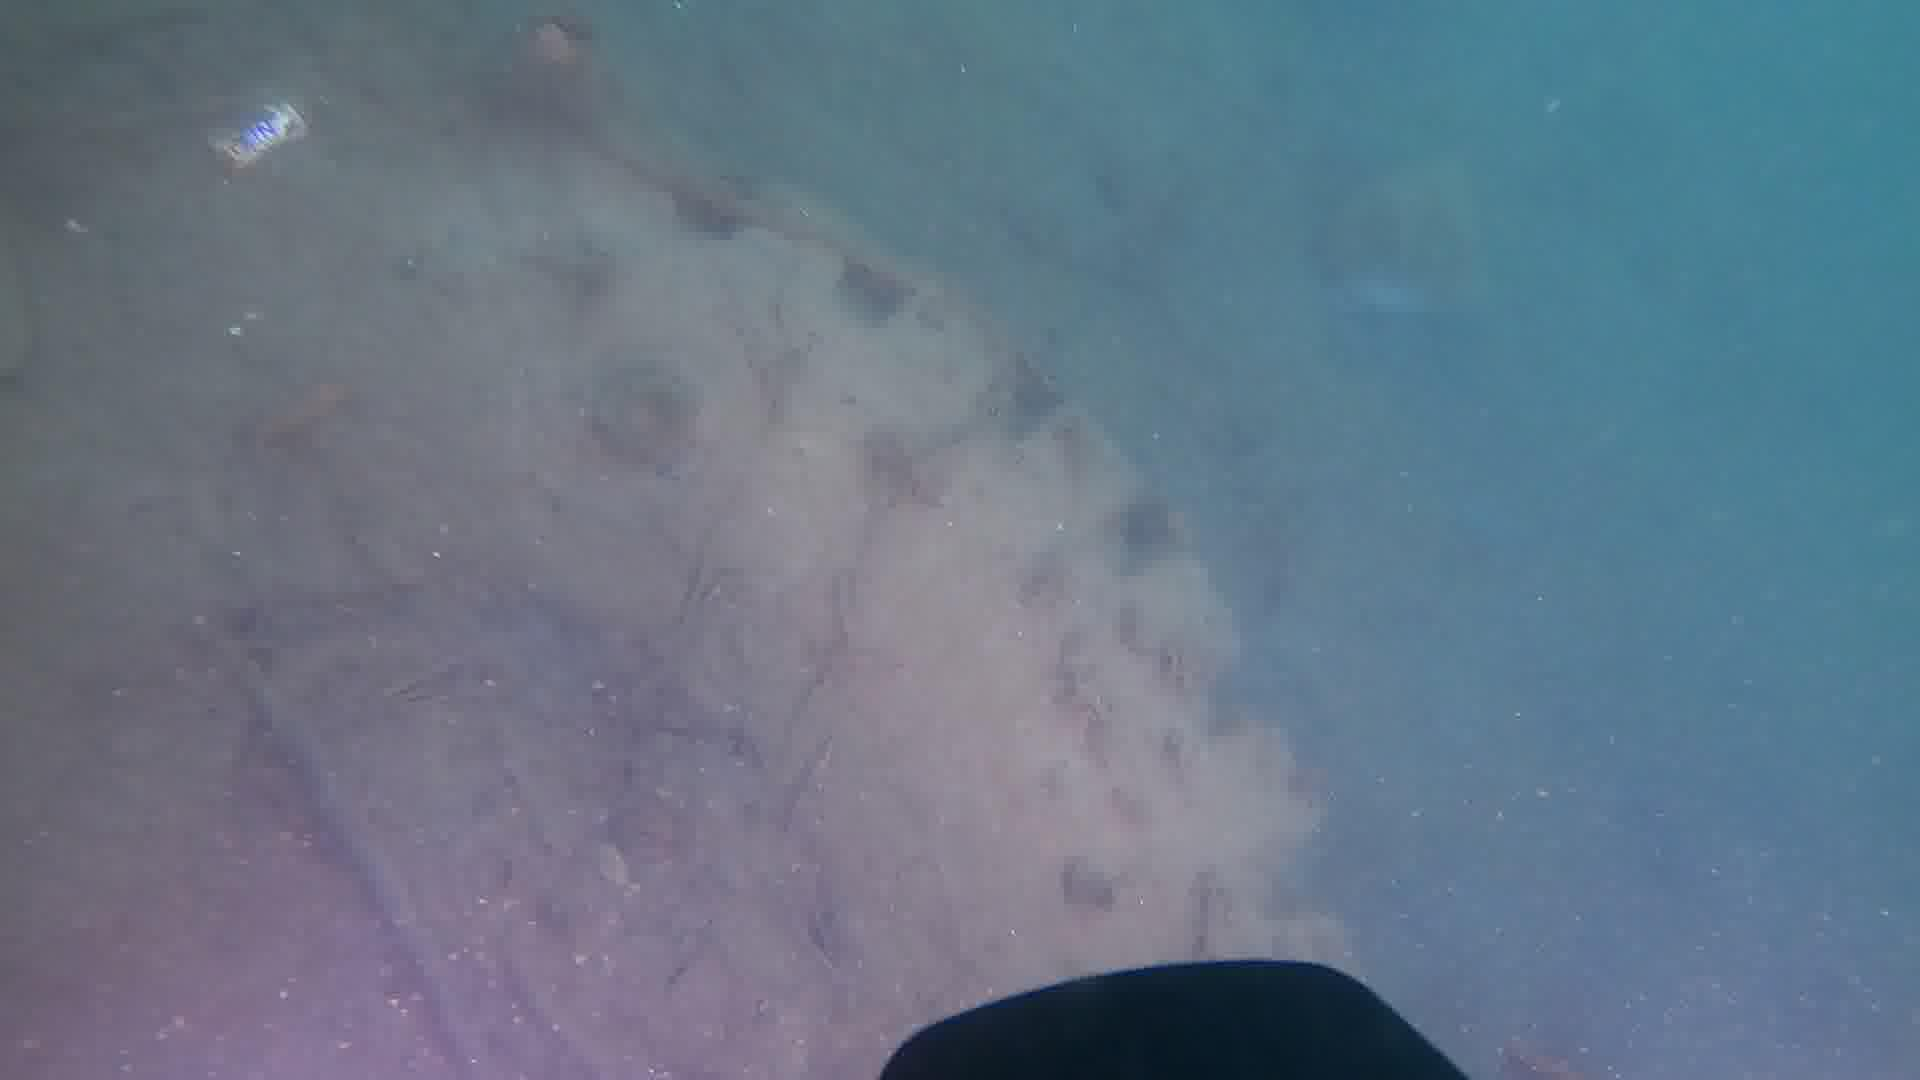tire: (0, 121, 1350, 1080)
